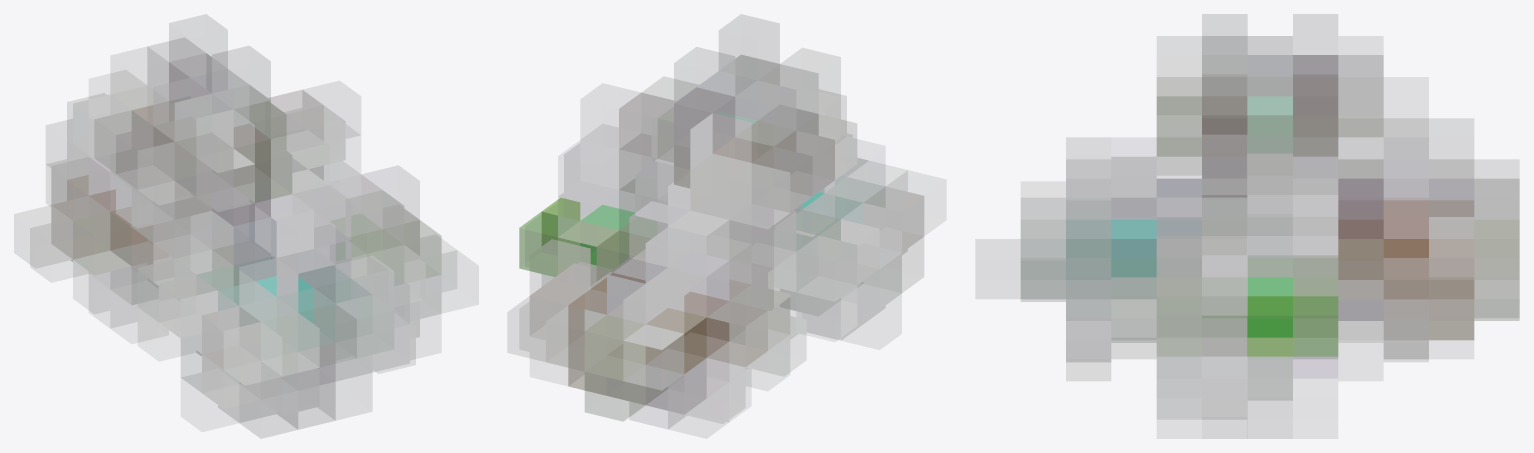
Rendered from iter_5.obj.
3 views of the same model, side by side, from view 1: azimuth 30°, elevation 25°; view 2: azimuth 150°, elevation 25°; view 3: azimuth 270°, elevation 25° (orthographic). The views are drawn at different scales.
Visible parts, largest first — view 1: iter_5; view 2: iter_5; view 3: iter_5.
Boxes of the visible parts, left/top/right/bottom form: iter_5: left=30, top=37, right=456, bottom=437; iter_5: left=519, top=14, right=924, bottom=428; iter_5: left=1020, top=14, right=1519, bottom=438.
Bounding box in the file's own units: 0.9 × 0.8 × 1.2.
